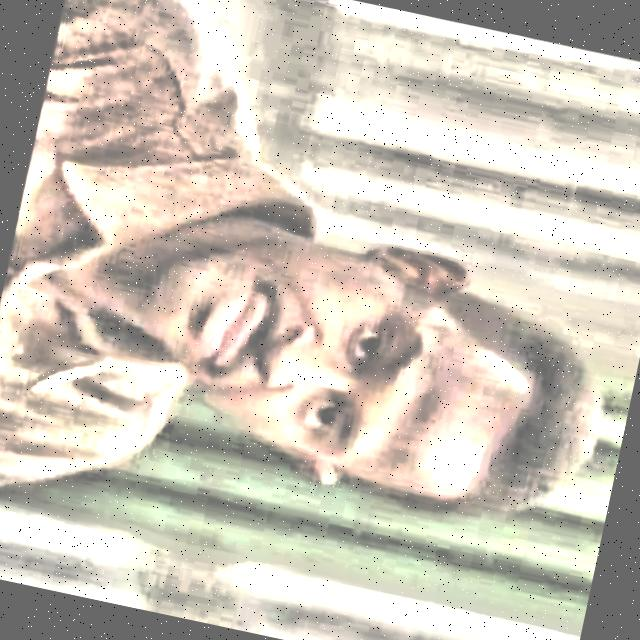disgust: (114, 192, 629, 541)
